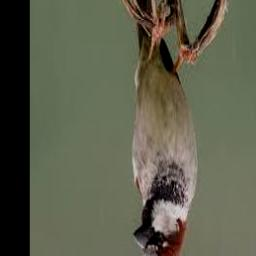Sparrow: (130, 0, 199, 256)
